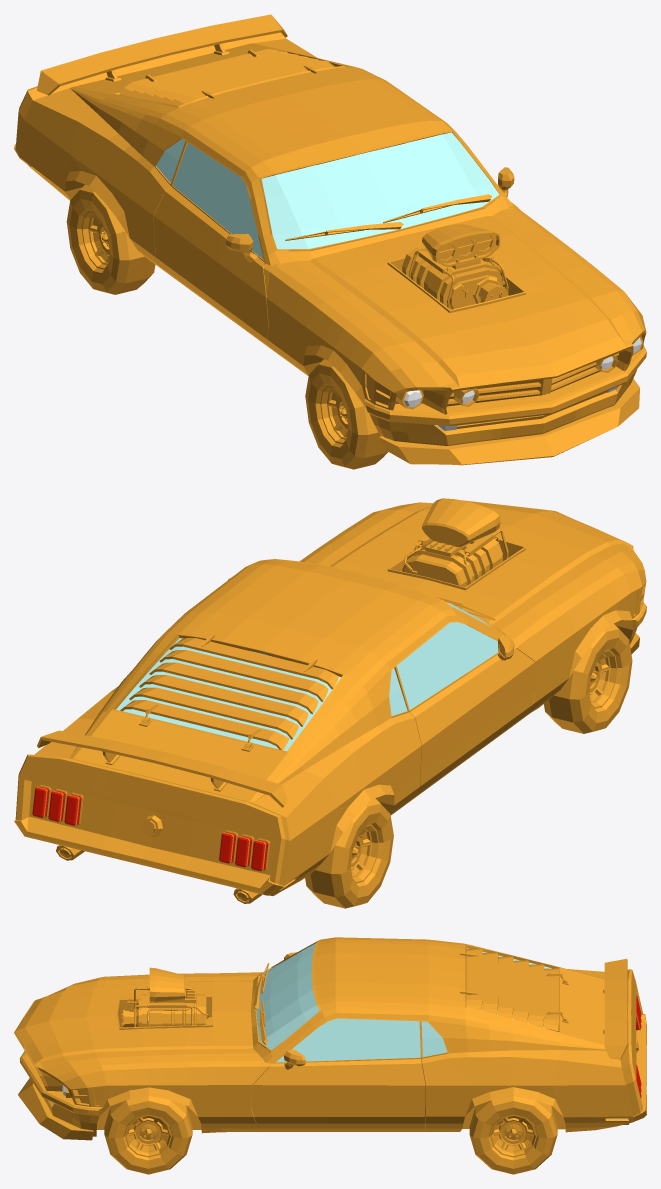
Rendered from SM_Car_Muscle_Engine_Racing.fbx.
3 renders of one model, top to bottom at view 1: azimuth 30°, elevation 25°; view 2: azimuth 150°, elevation 25°; view 3: azimuth 270°, elevation 25°, orthographic. The views are drawn at different scales.
Visible parts, largest first — view 1: SM_Car_Muscle_Engine_Racing_Base, SM_Car_Muscle_Engine_Racing_Door_R, SM_Car_Muscle_Engine_Racing_Wheel_RB, SM_Car_Muscle_Engine_Racing_Wheel_RF; view 2: SM_Car_Muscle_Engine_Racing_Base, SM_Car_Muscle_Engine_Racing_Door_R, SM_Car_Muscle_Engine_Racing_Wheel_RB, SM_Car_Muscle_Engine_Racing_Wheel_RF; view 3: SM_Car_Muscle_Engine_Racing_Base, SM_Car_Muscle_Engine_Racing_Door_L, SM_Car_Muscle_Engine_Racing_Wheel_LF, SM_Car_Muscle_Engine_Racing_Wheel_LB.
Part boxes in pixels (x1,y1,x2,y2): SM_Car_Muscle_Engine_Racing_Base: (14,14,646,465); SM_Car_Muscle_Engine_Racing_Door_R: (153,143,279,355); SM_Car_Muscle_Engine_Racing_Wheel_RB: (66,184,155,294); SM_Car_Muscle_Engine_Racing_Wheel_RF: (305,359,387,469); SM_Car_Muscle_Engine_Racing_Base: (14,498,646,903); SM_Car_Muscle_Engine_Racing_Door_R: (396,622,535,805); SM_Car_Muscle_Engine_Racing_Wheel_RB: (305,798,393,908); SM_Car_Muscle_Engine_Racing_Wheel_RF: (544,623,632,733); SM_Car_Muscle_Engine_Racing_Base: (14,937,646,1140); SM_Car_Muscle_Engine_Racing_Door_L: (251,1018,425,1128); SM_Car_Muscle_Engine_Racing_Wheel_LF: (104,1096,192,1174); SM_Car_Muscle_Engine_Racing_Wheel_LB: (469,1096,557,1174).
Bounding box in the file's own units: 2.16 × 1.51 × 5.44.
